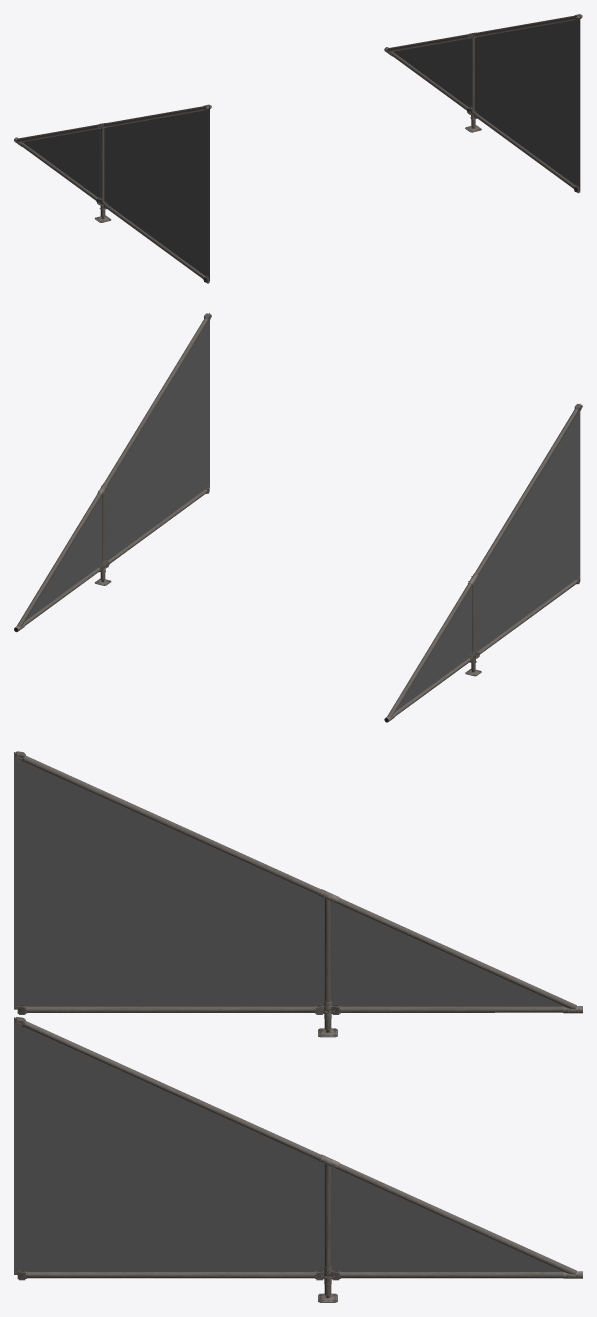
File: scaffold_foot_slope_192.fbx
3 renders of one model, top to bottom at view 1: azimuth 30°, elevation 25°; view 2: azimuth 150°, elevation 25°; view 3: azimuth 270°, elevation 25°, orthographic. The views are drawn at different scales.
Parts seen in each view (by area): view 1: scaffold_foot_slope_192; view 2: scaffold_foot_slope_192; view 3: scaffold_foot_slope_192.
Boxes of the visible parts, left/top/right/bottom form: scaffold_foot_slope_192: left=14, top=14, right=582, bottom=283; scaffold_foot_slope_192: left=14, top=313, right=582, bottom=722; scaffold_foot_slope_192: left=14, top=751, right=582, bottom=1302.
Size of the model in its own units: 396 by 190 by 348.
3 materials, 2 textured.
